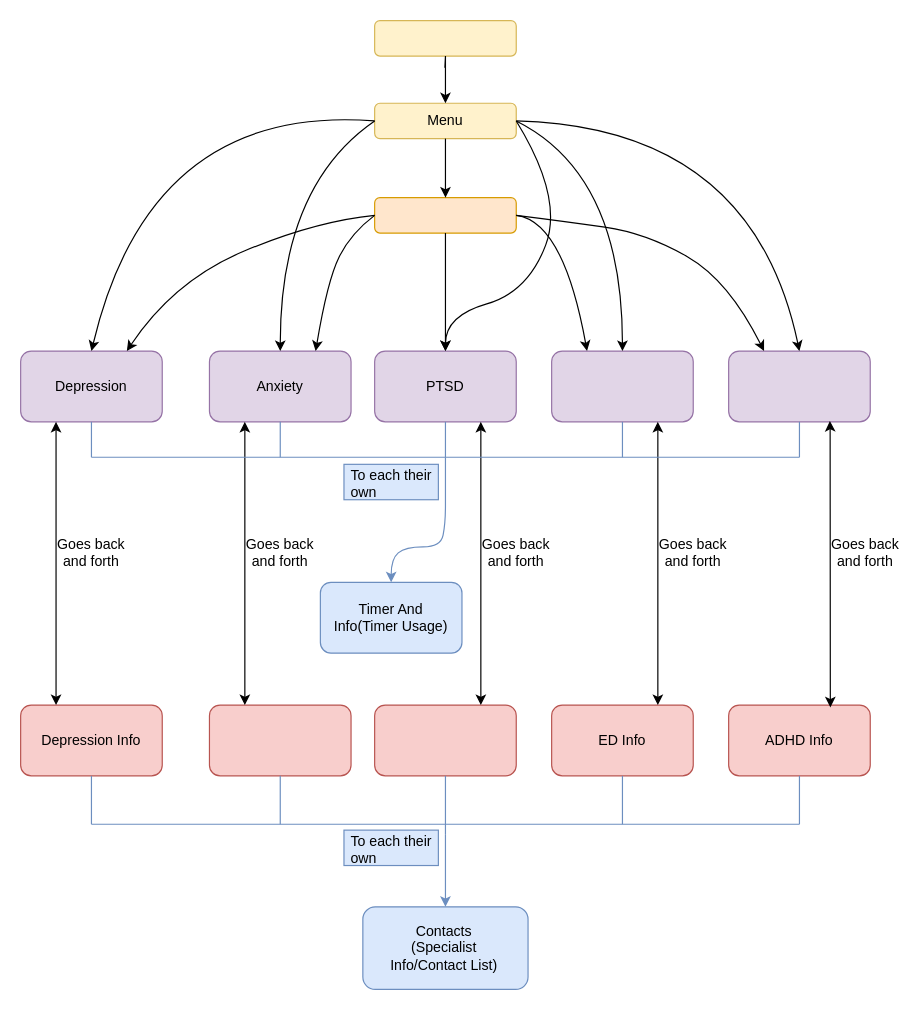
The diagram is 922 pixels wide and 1010 high, and some of its shapes have lost their labels. The shapes that lost their labels are listed below. From the top down, each one's box as (x1, y1, x2, y2) in pixels, then its label:
(373, 19, 516, 56): Default Timer
(373, 196, 516, 233): Quiz/Intro Info
(550, 350, 693, 422): Eating Disorder
(727, 350, 870, 422): ADHD
(208, 704, 351, 776): Anxiety Info
(373, 704, 516, 776): PTSD Info
